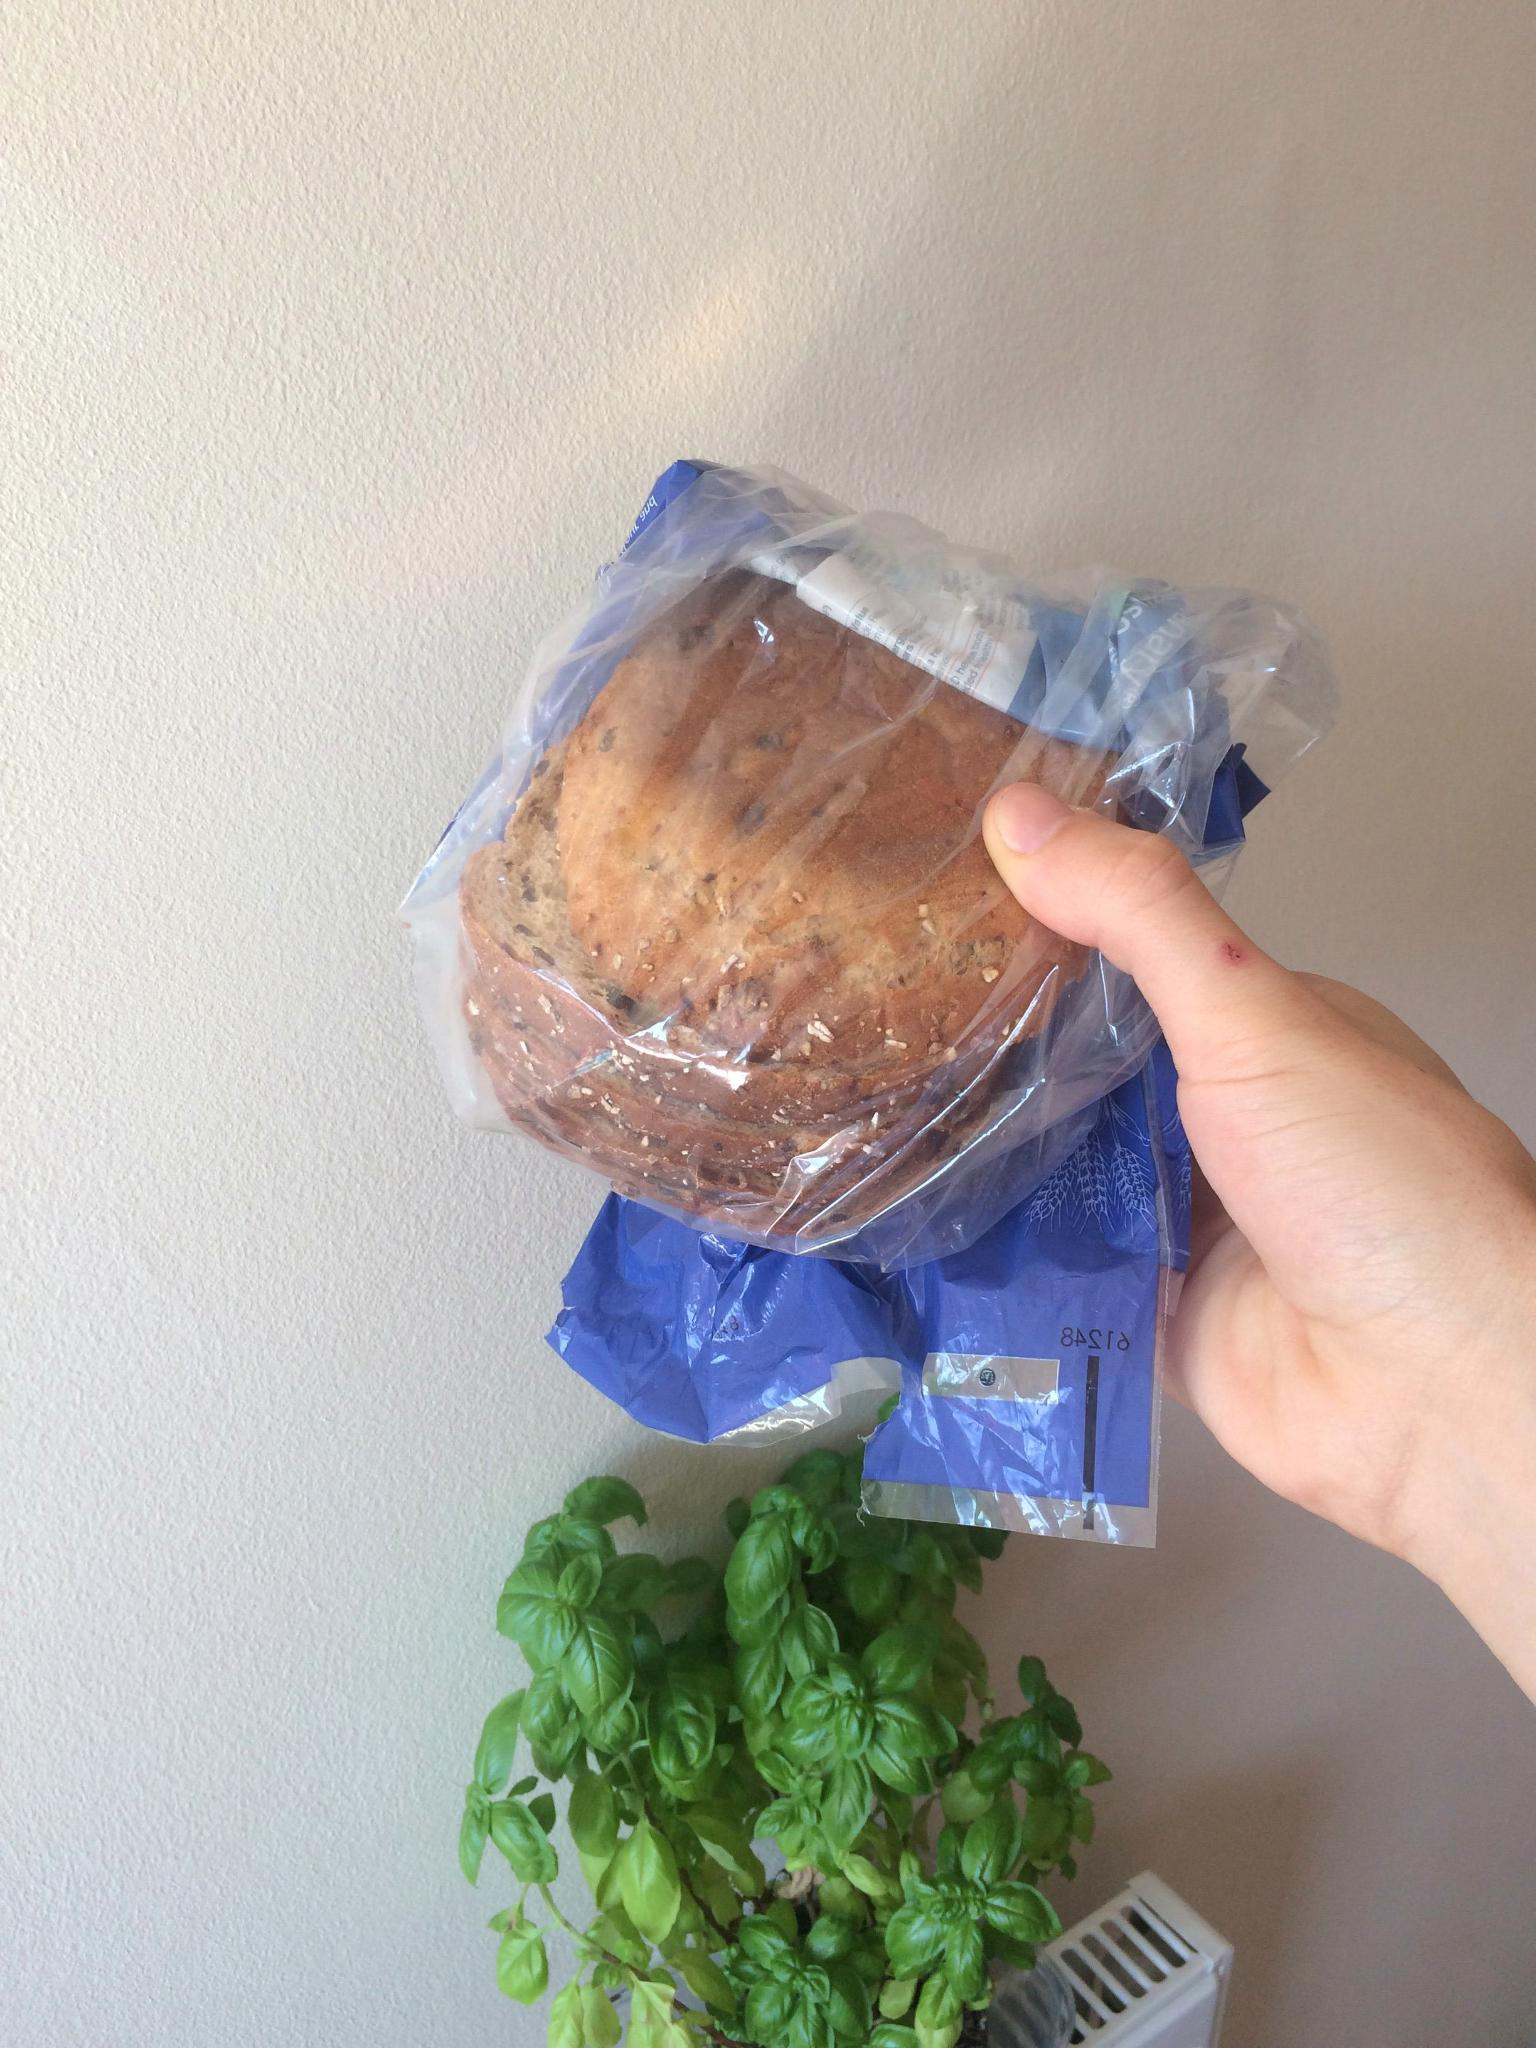Plastic: (360, 431, 1352, 1566)
